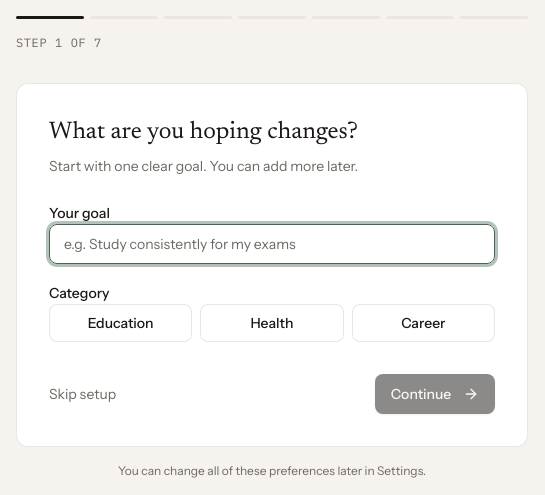
OnboardingClient › step 1: goal + category › enables Continue when goal title has >= 3 chars
This screenshot has width=545, height=495.
In the field with placeholder "e.g. Study consistently for my exams": (272, 244) x1=49 y1=224 x2=495 y2=264, type "Read more books"
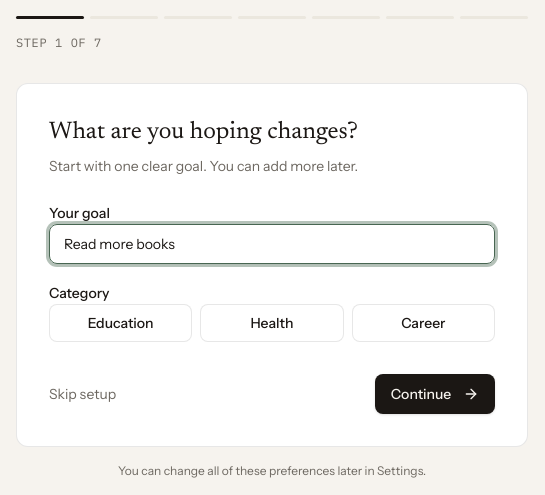
Now the button "Continue" is enabled, box x1=375 y1=374 x2=495 y2=414
